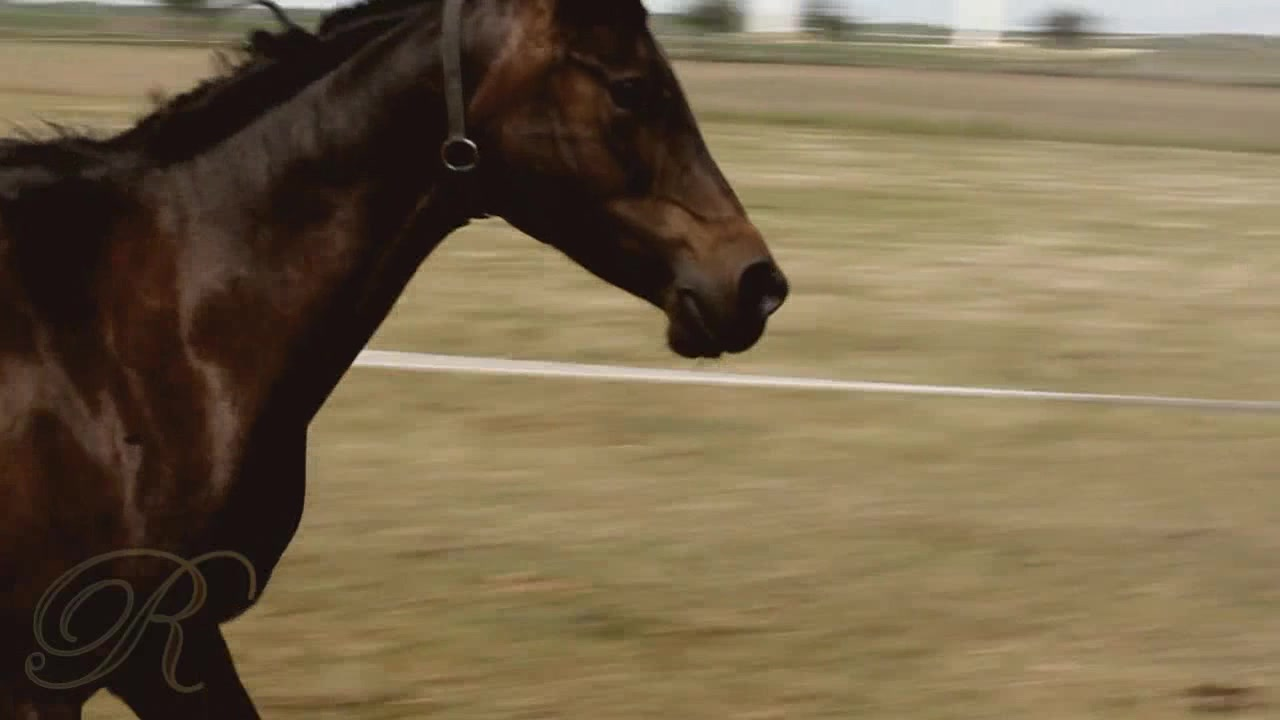horse: (1, 3, 793, 720)
